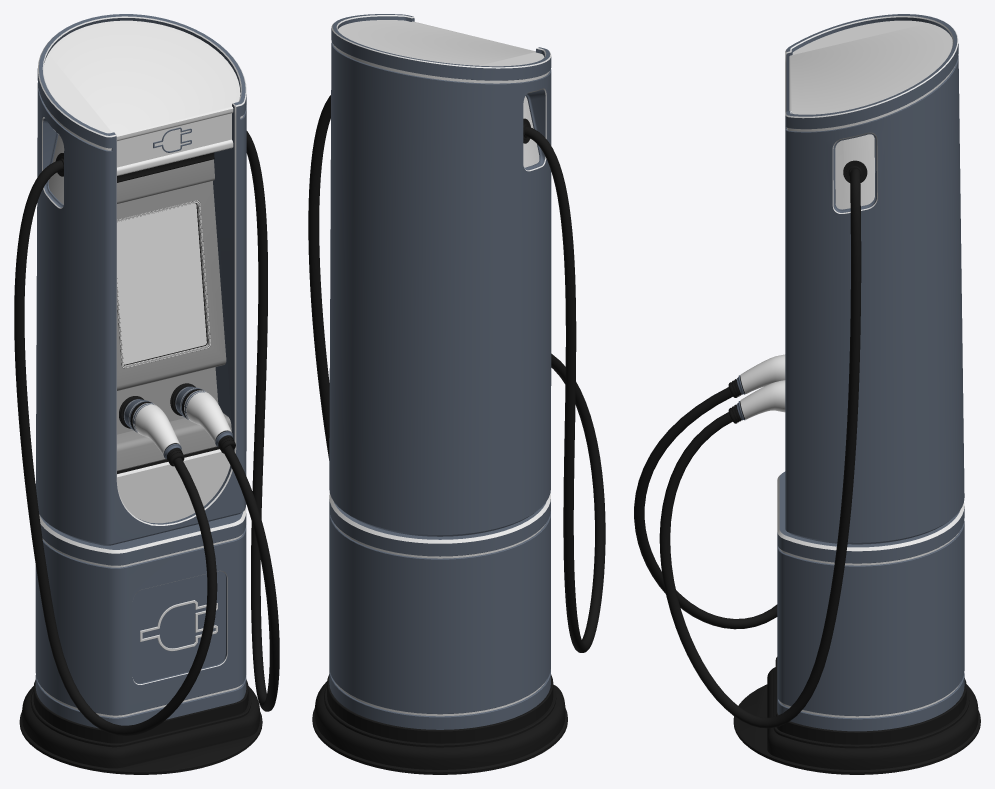
Rendered from ev-chargers-final.fbx.
3 views of the same model, side by side, from view 1: azimuth 30°, elevation 25°; view 2: azimuth 150°, elevation 25°; view 3: azimuth 270°, elevation 25° (orthographic). The views are drawn at different scales.
Visible parts, largest first — view 1: Charging Station, BezierCurve.001; view 2: Charging Station, BezierCurve.001; view 3: Charging Station, BezierCurve.001.
Boxes of the visible parts, x1,y1,x2,y2 form: Charging Station: (19,14,262,774); BezierCurve.001: (14,131,279,735); Charging Station: (312,14,567,774); BezierCurve.001: (308,95,605,652); Charging Station: (728,14,980,774); BezierCurve.001: (634,168,861,728).
Size of the model in its own units: 73.6 by 186 by 85.89.
